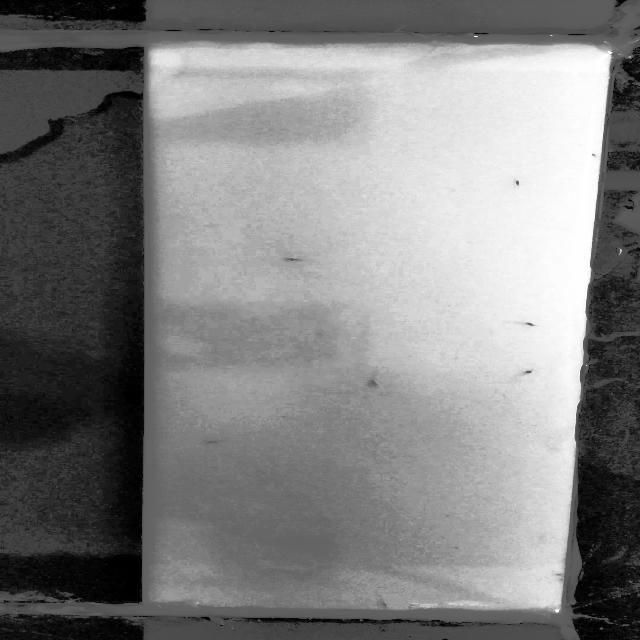shrimp: (281, 253, 310, 266), (511, 368, 541, 378), (516, 320, 546, 330), (367, 376, 383, 392), (511, 176, 524, 193), (198, 439, 234, 445), (378, 598, 389, 610)
